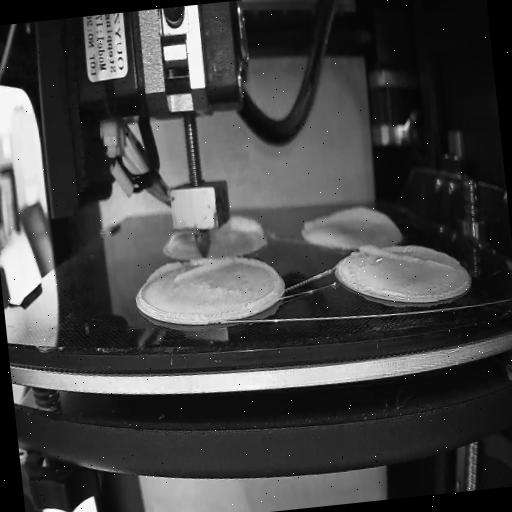over_extrusion: (358, 235, 452, 278), (300, 202, 394, 236), (237, 254, 285, 310), (172, 260, 232, 284), (226, 214, 266, 242), (142, 259, 168, 283)
